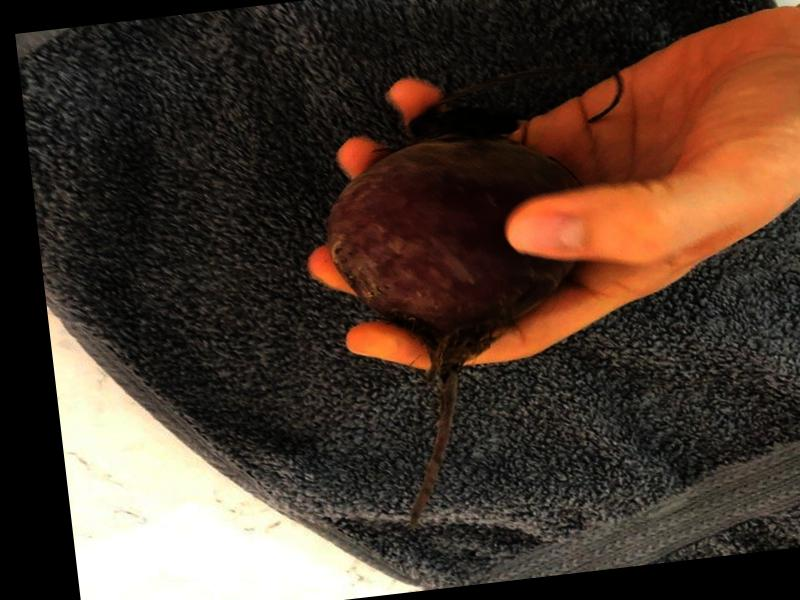Beet: (313, 96, 619, 537)
